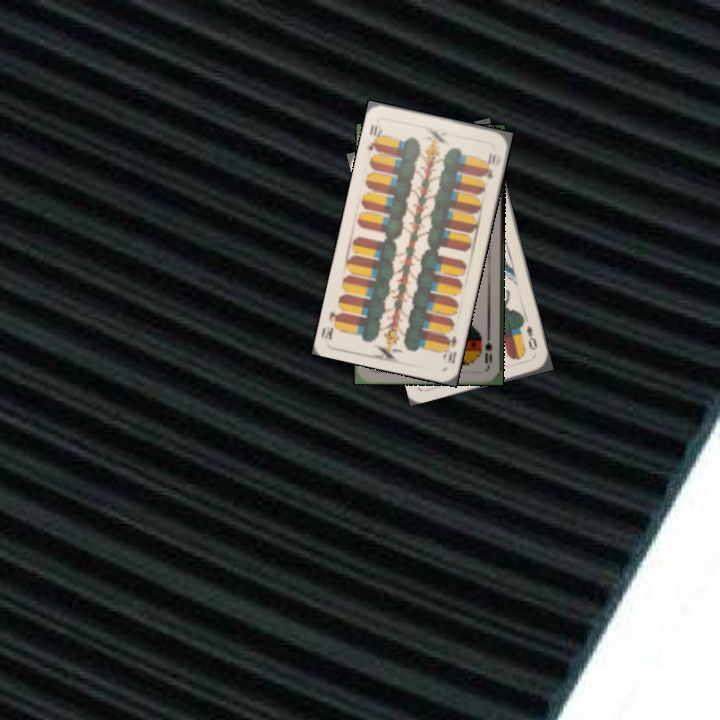E10: (363, 120, 385, 154), (439, 332, 459, 366)
EO: (522, 322, 540, 353)
SO: (481, 328, 495, 369)
